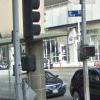Traffic light: (15, 2, 54, 55)
